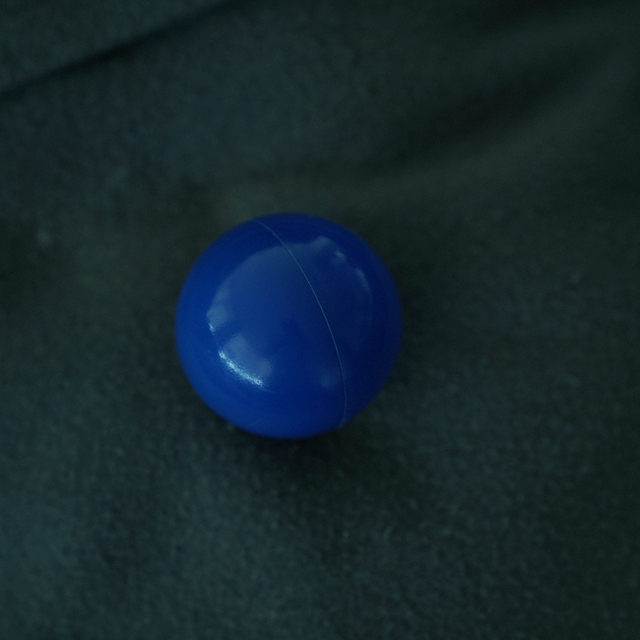Ball: (176, 210, 397, 440)
